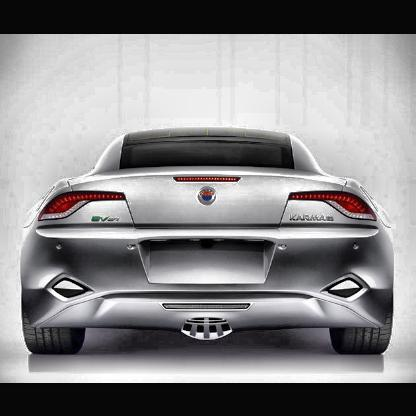Fisker Karma Sedan 2012: (21, 125, 398, 366)
